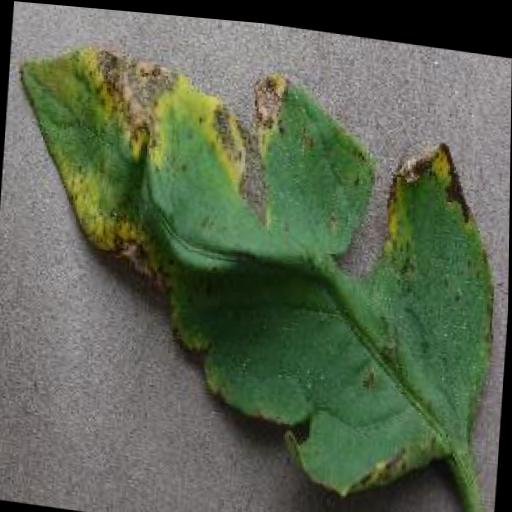Bacterial Spot: (0, 19, 512, 512)
